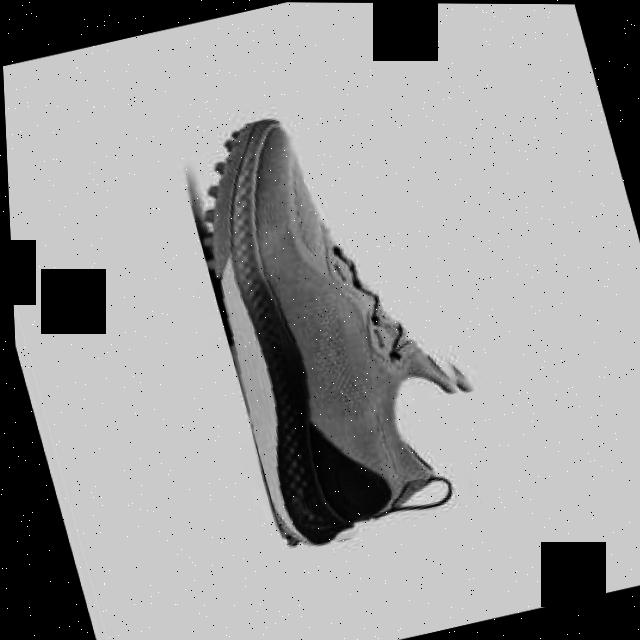shoe: (169, 88, 503, 554)
